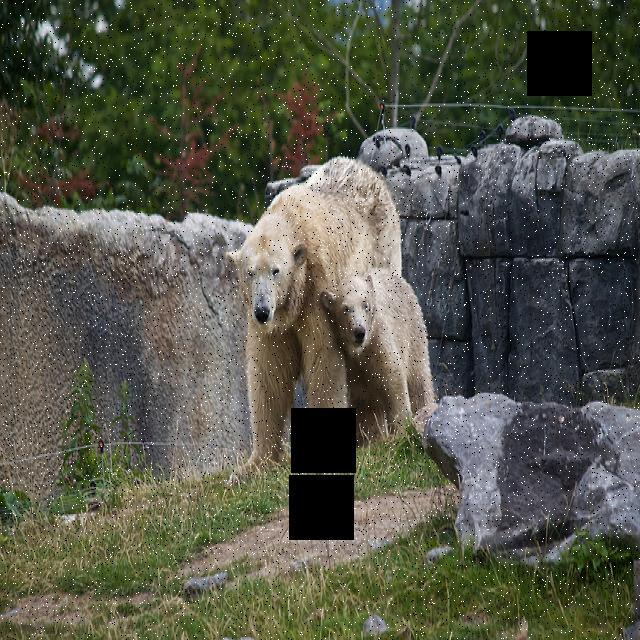Bear: (227, 160, 418, 446), (316, 261, 456, 434)
